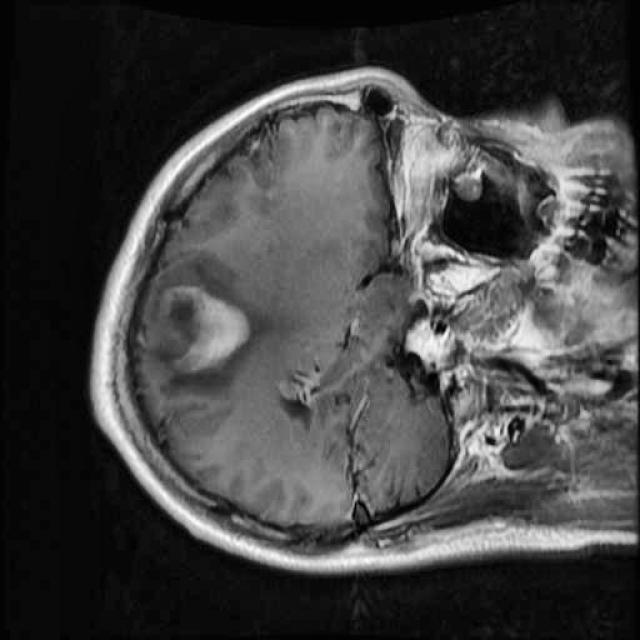Tumor: (132, 268, 266, 392)
